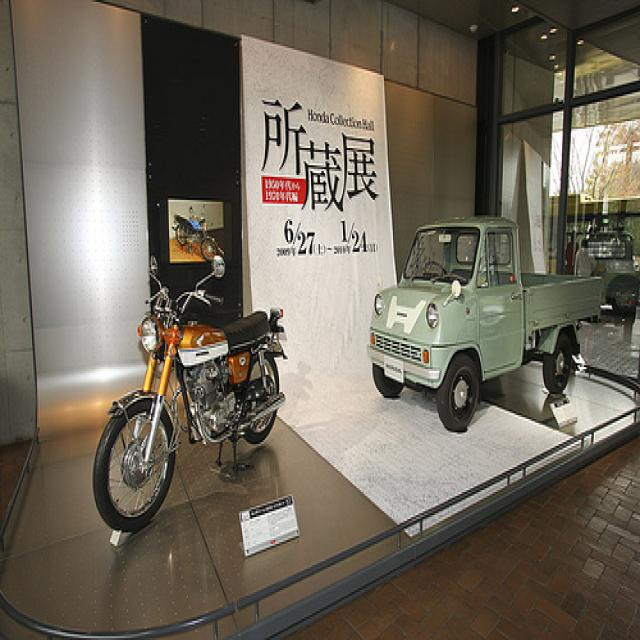motor: (91, 256, 287, 533)
